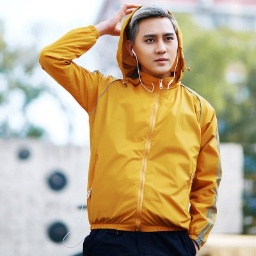face: (129, 3, 181, 77)
